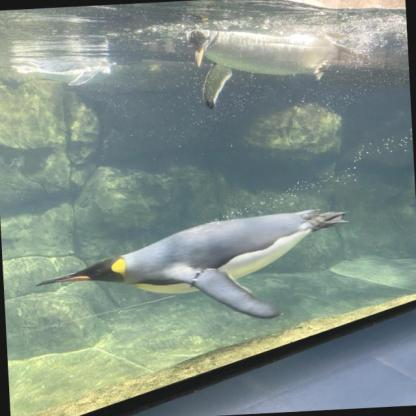penguin: (30, 207, 355, 331), (181, 20, 366, 109), (11, 54, 113, 88)
